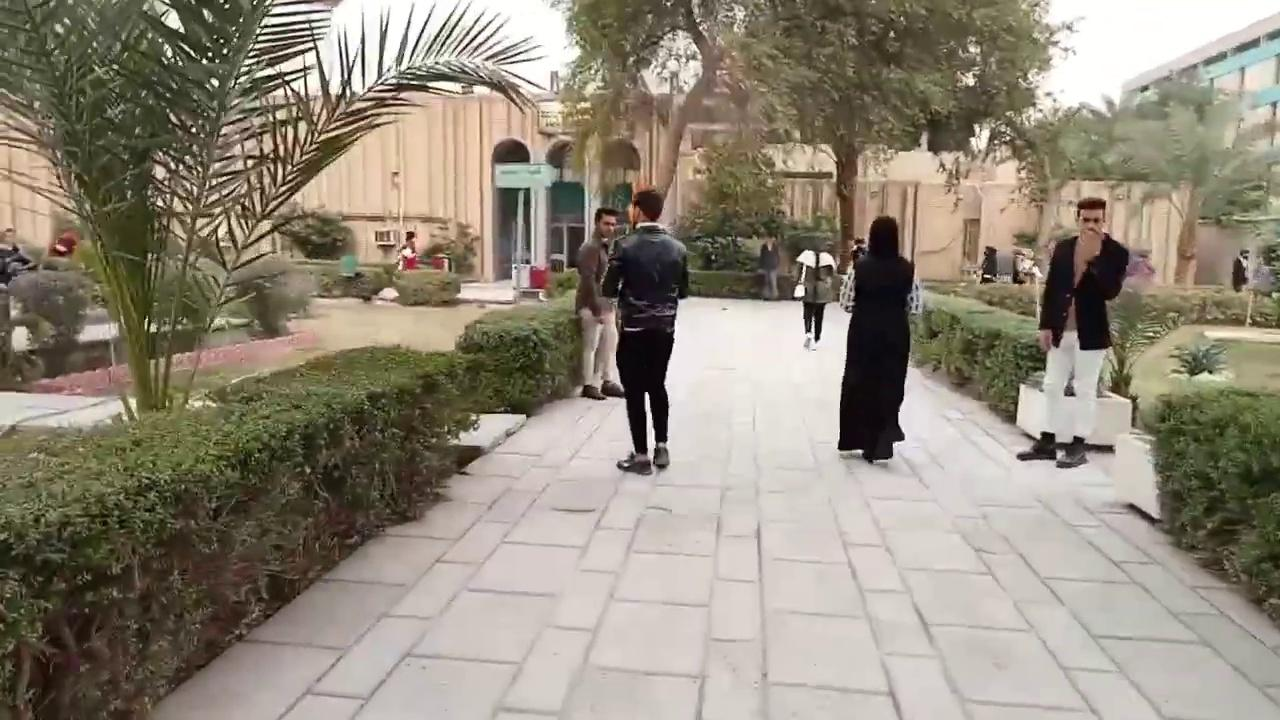person: (1016, 196, 1129, 467), (599, 188, 689, 475), (836, 215, 916, 463), (574, 207, 625, 400), (794, 236, 837, 351), (758, 235, 780, 300), (395, 231, 418, 270), (1232, 248, 1249, 292), (979, 245, 997, 283), (850, 236, 866, 263)
tree: (1, 279, 581, 718), (0, 0, 549, 416), (553, 0, 1082, 276), (725, 0, 972, 273), (554, 0, 773, 238), (1112, 317, 1278, 623), (905, 0, 1081, 274), (1107, 73, 1267, 288), (1013, 88, 1171, 272), (1001, 97, 1107, 256), (676, 134, 786, 269), (231, 264, 317, 337), (391, 265, 460, 305)
